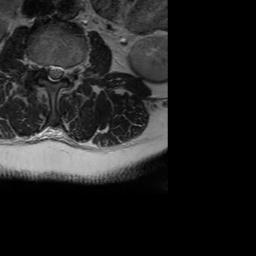CCS_stenosis: (50, 58, 57, 88)
LFS_normal: (64, 61, 72, 86)
LLS_normal: (57, 59, 64, 86)
RFS_stenosis: (36, 55, 43, 79)
RLS_severe_stenosis: (43, 57, 50, 82)
